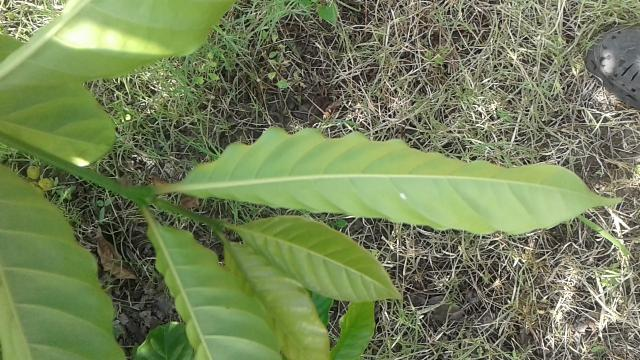healthy: (181, 122, 630, 242)
